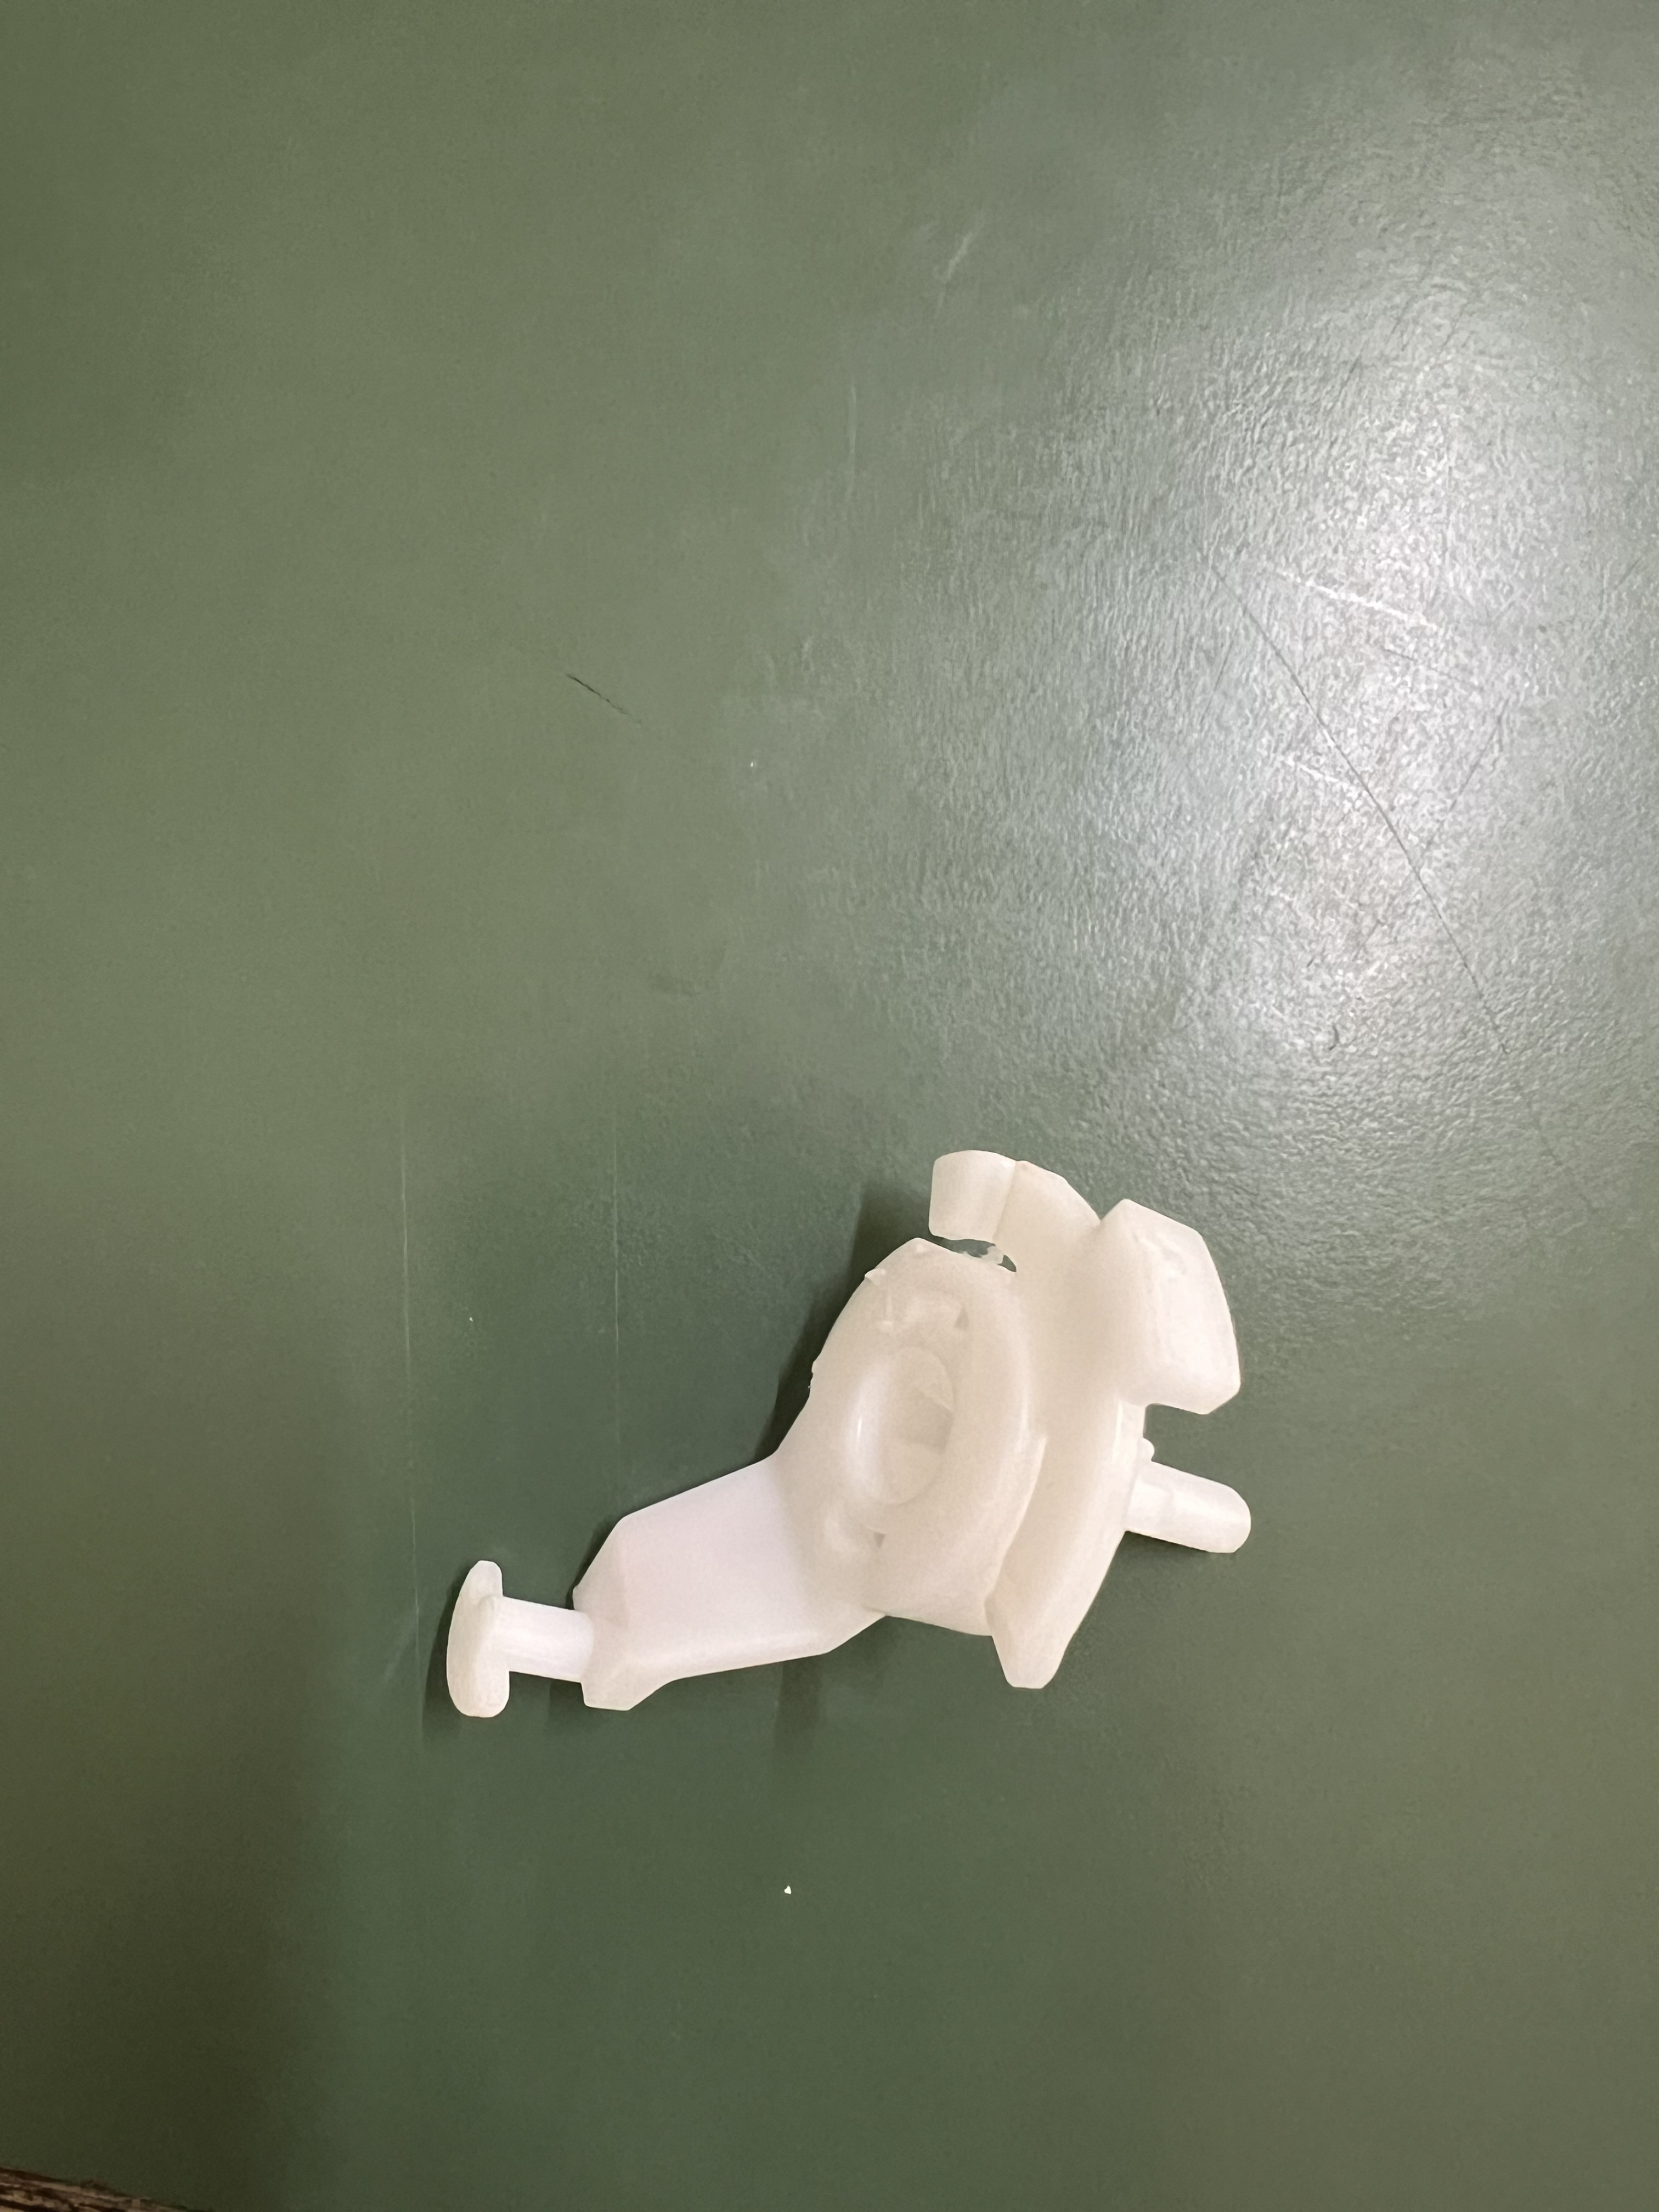drain_lever: (390, 1132, 1304, 1743)
